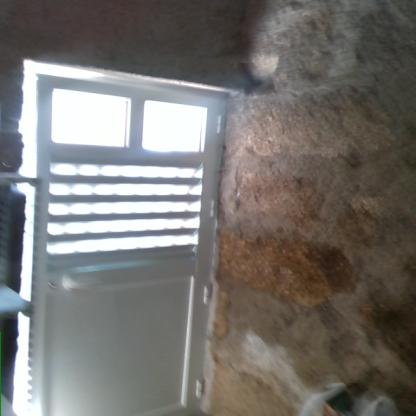closed: (22, 64, 248, 415)
